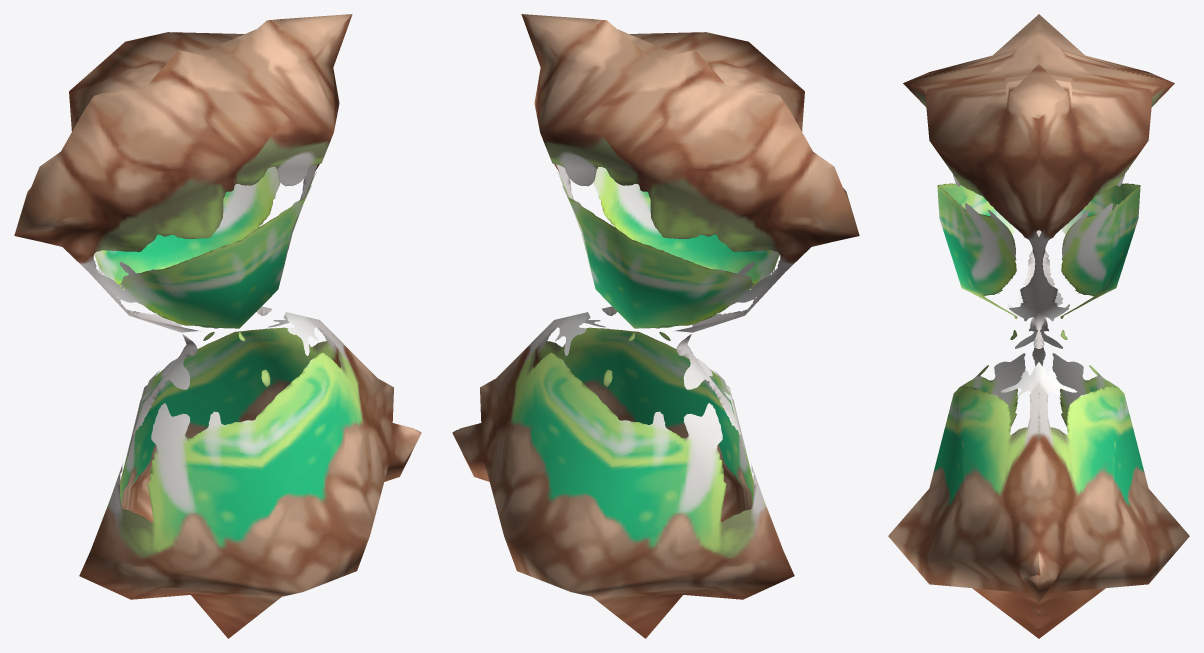
File: buff_cddown.FBX
3 views of the same model, side by side, from view 1: azimuth 30°, elevation 25°; view 2: azimuth 150°, elevation 25°; view 3: azimuth 270°, elevation 25° (orthographic). The views are drawn at different scales.
Visible parts, largest first — view 1: Plane005; view 2: Plane005; view 3: Plane005.
Boxes of the visible parts, x1,y1,x2,y2 form: Plane005: (14,14,421,638); Plane005: (452,14,859,638); Plane005: (888,14,1189,638).
Size of the model in its own units: 0.6331 by 0.9023 by 0.4161.
